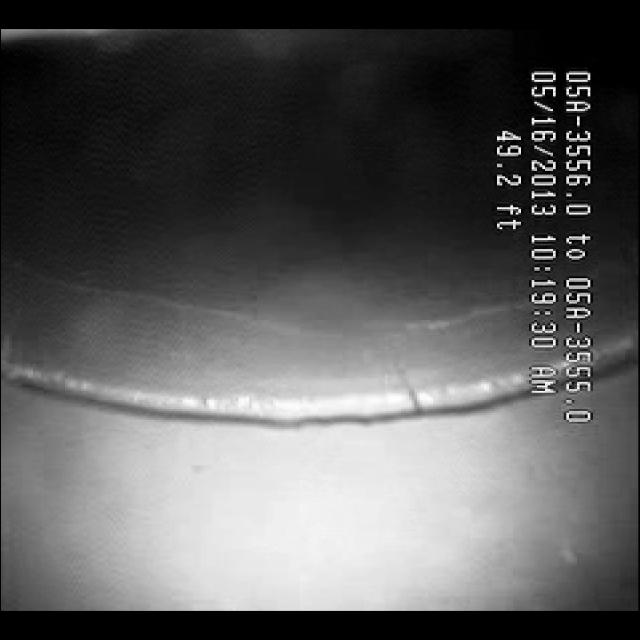Crack: (308, 312, 482, 424)
